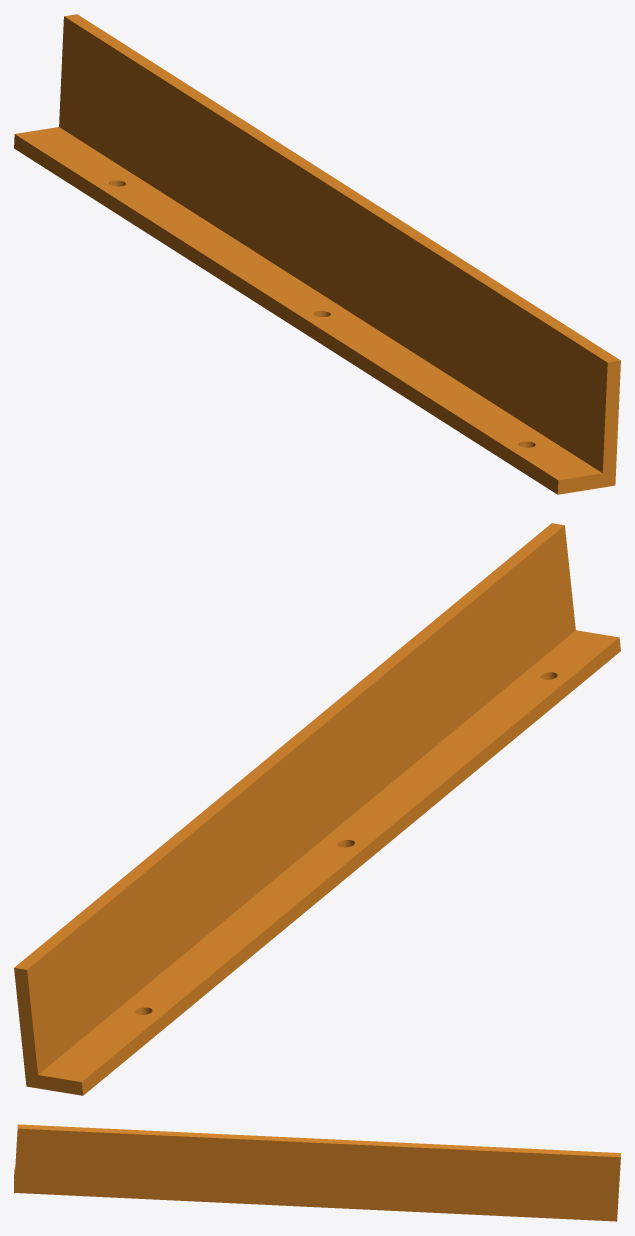
The model's file is bj_guia.glb.
3 renders of one model, top to bottom at view 1: azimuth 30°, elevation 25°; view 2: azimuth 150°, elevation 25°; view 3: azimuth 270°, elevation 25°, orthographic. The views are drawn at different scales.
Visible parts, largest first — view 1: bj_guia; view 2: bj_guia; view 3: bj_guia.
Part boxes in pixels (x1,y1,x2,y2): bj_guia: [14, 14, 620, 494]; bj_guia: [14, 523, 620, 1095]; bj_guia: [14, 1124, 620, 1221].
Bounding box in the file's own units: 15 × 37.23 × 213.
